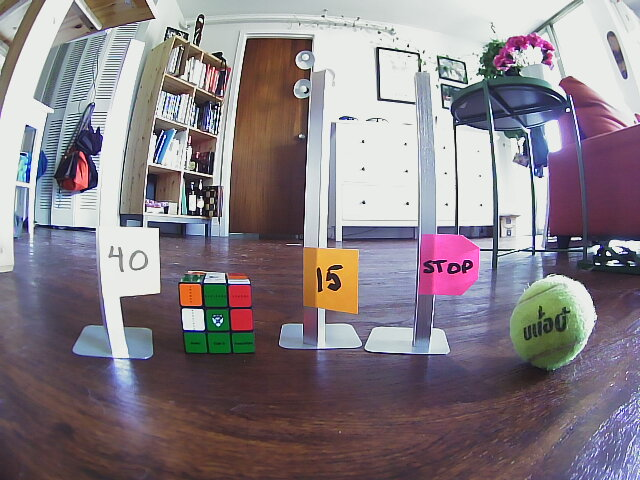15: (302, 249, 357, 308)
40: (98, 228, 158, 291)
ball: (512, 274, 599, 370)
cube: (180, 271, 256, 356)
stop: (420, 236, 474, 291)
